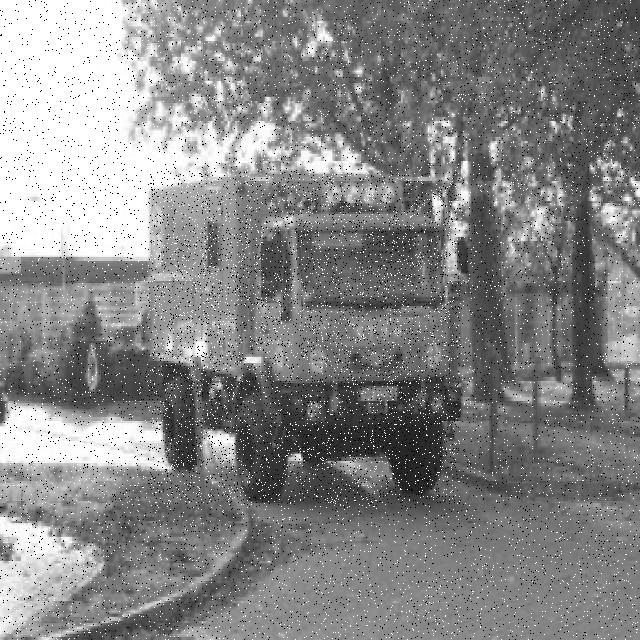Box Truck: (148, 172, 460, 504)
